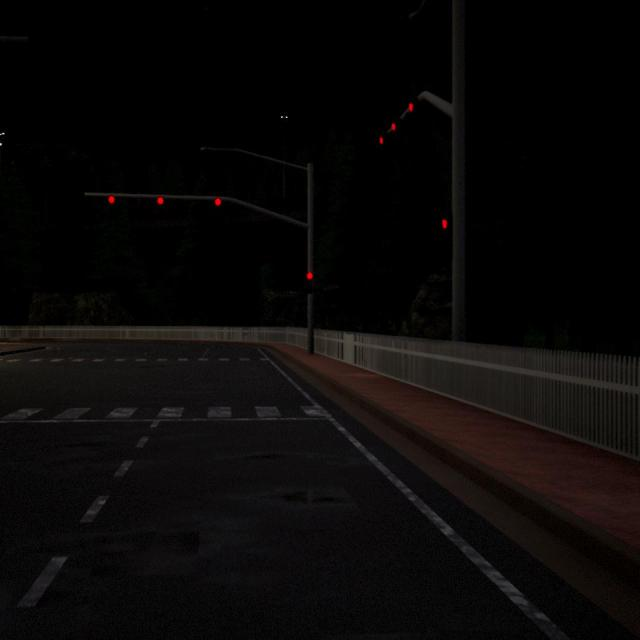traffic_light: (441, 218, 449, 229), (306, 270, 314, 280), (214, 197, 222, 206), (108, 195, 115, 204), (157, 196, 164, 205), (379, 135, 385, 145), (409, 103, 413, 113), (392, 122, 396, 131)
